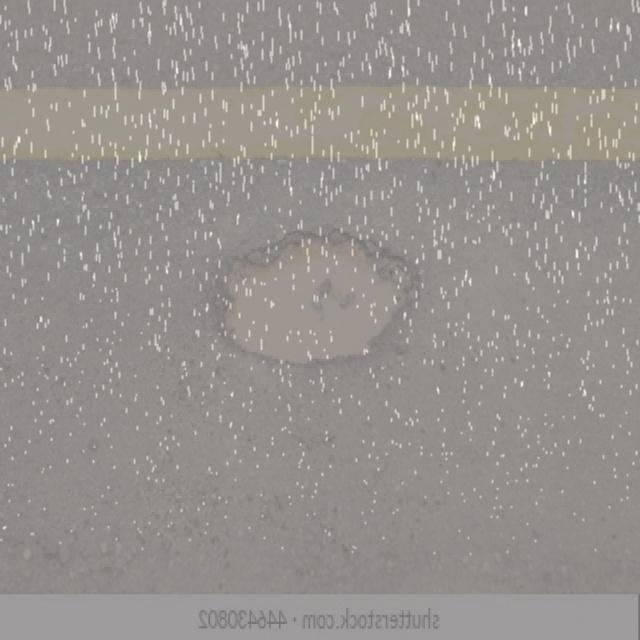Pothole: (193, 202, 458, 395)
